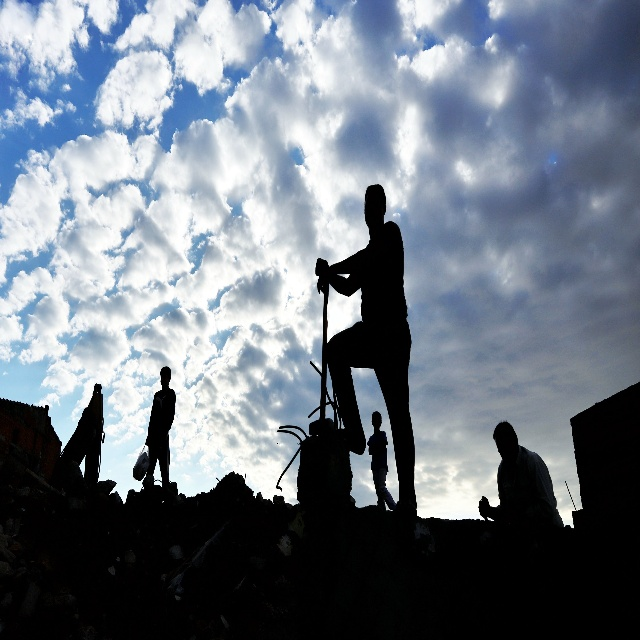Sin_guantes: (478, 494, 491, 518), (314, 258, 328, 277), (316, 276, 324, 294)
